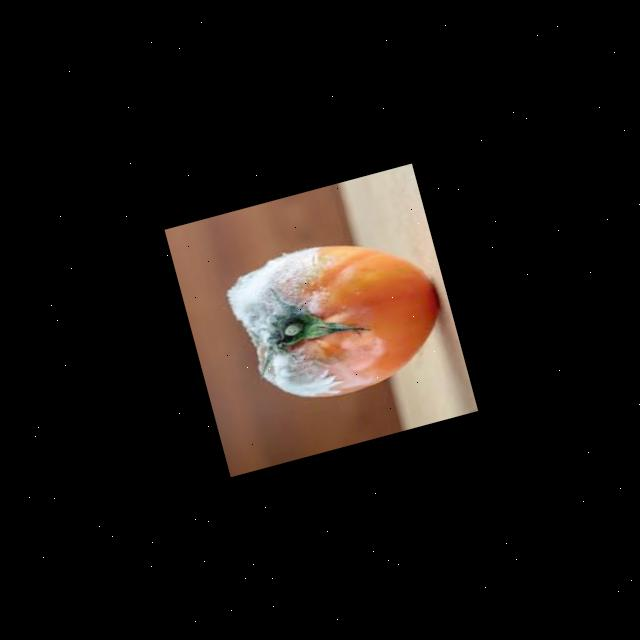tomato: (218, 211, 458, 424)
